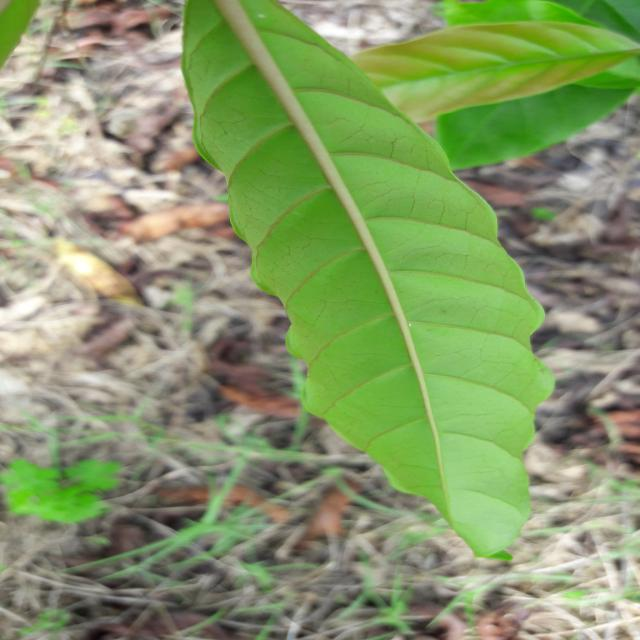Sanas: (179, 0, 556, 562)
